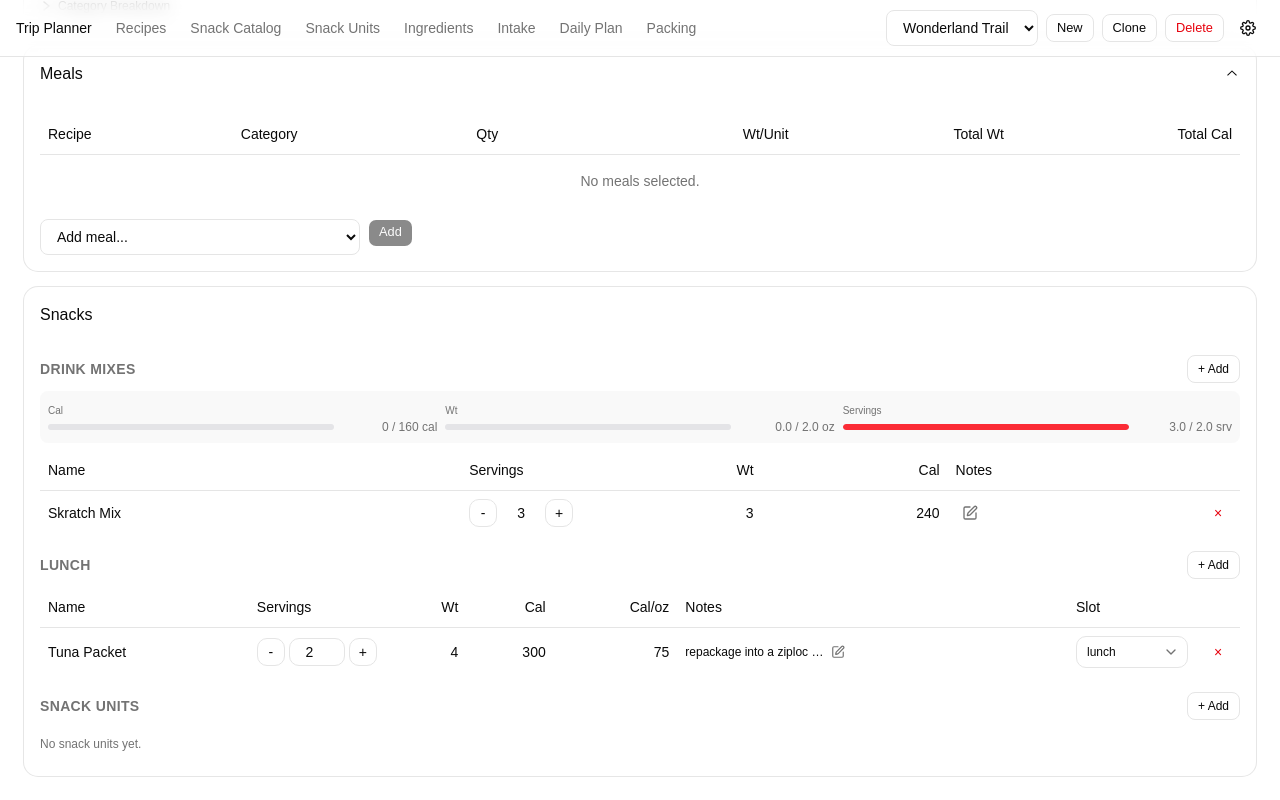
Test: SnackSelection › the notes dialog shows the saved note and saves edits
(page scrolled)
Click the button with aria-label "Tuna Packet notes": [765, 652] box [685,644,845,660]
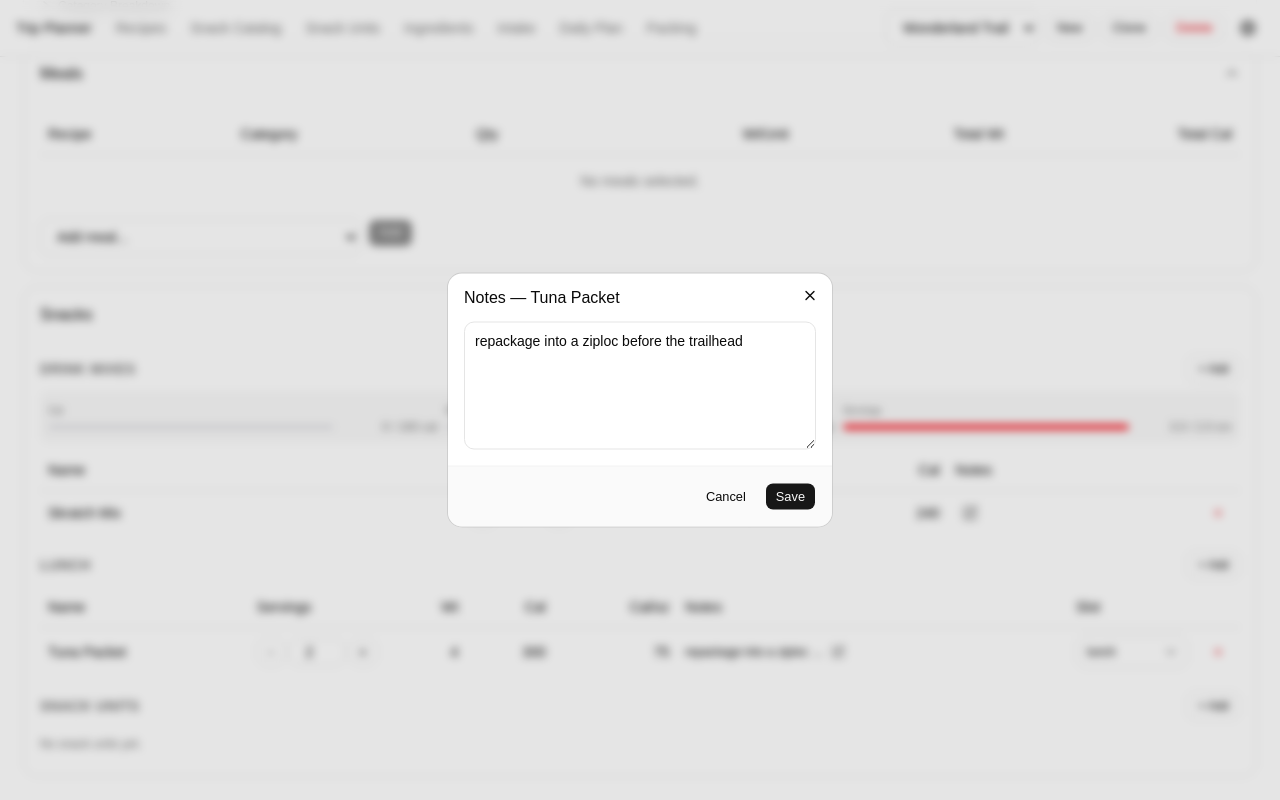
Now the text box named "Tuna Packet notes" holds "repackage into a ziploc before the trailhead"
Replace the text in the text box named "Tuna Packet notes" with "buy two more packets": [640, 386] box [464,322,816,450]
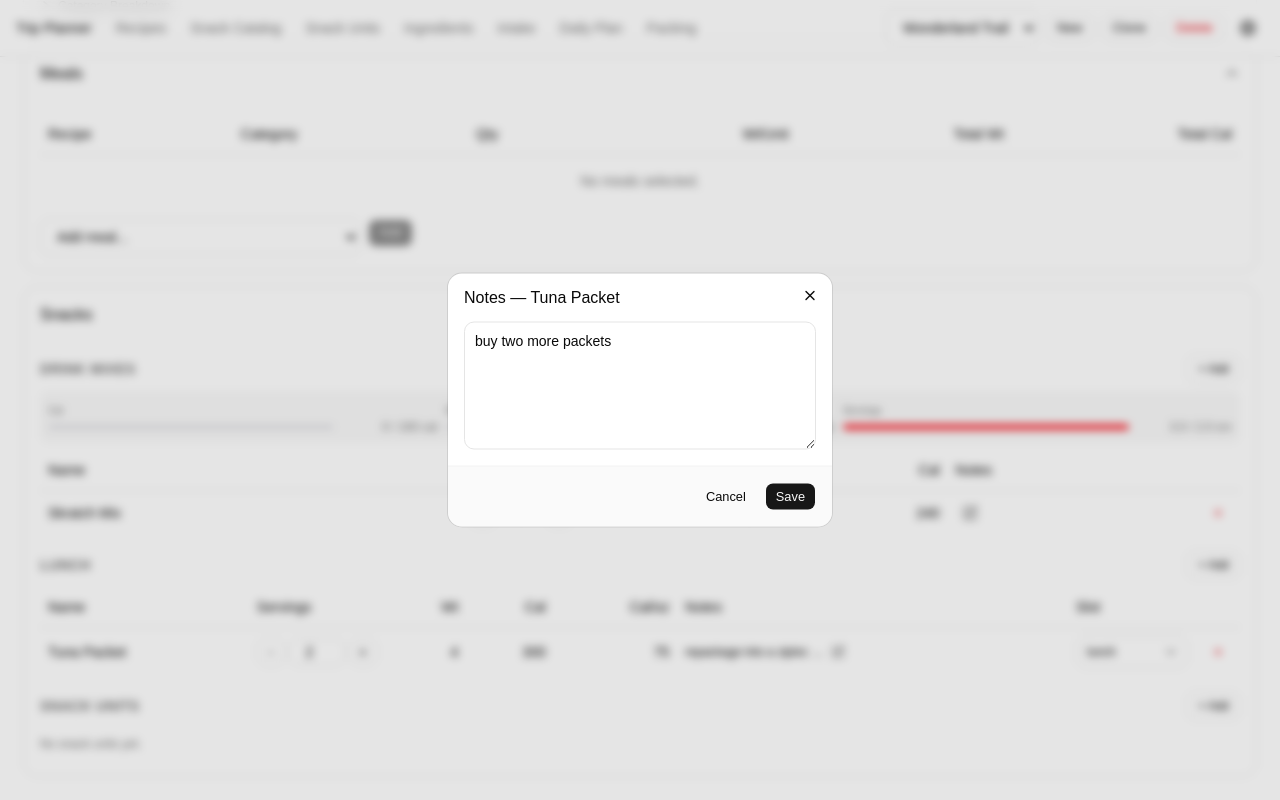
Click the button "Save": [790, 496] box [765,482,816,510]
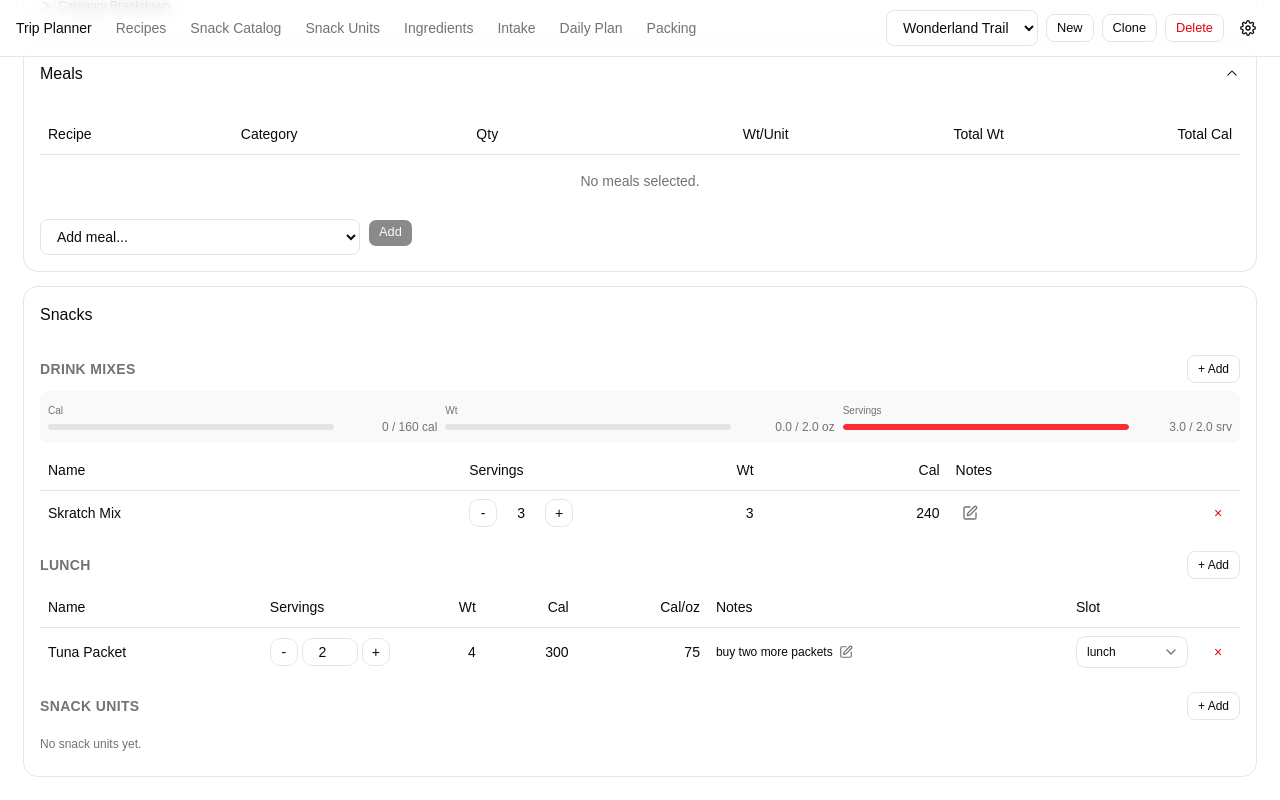
Now the button with aria-label "Tuna Packet notes" reads "buy two more packets", box [716,644,853,660]
